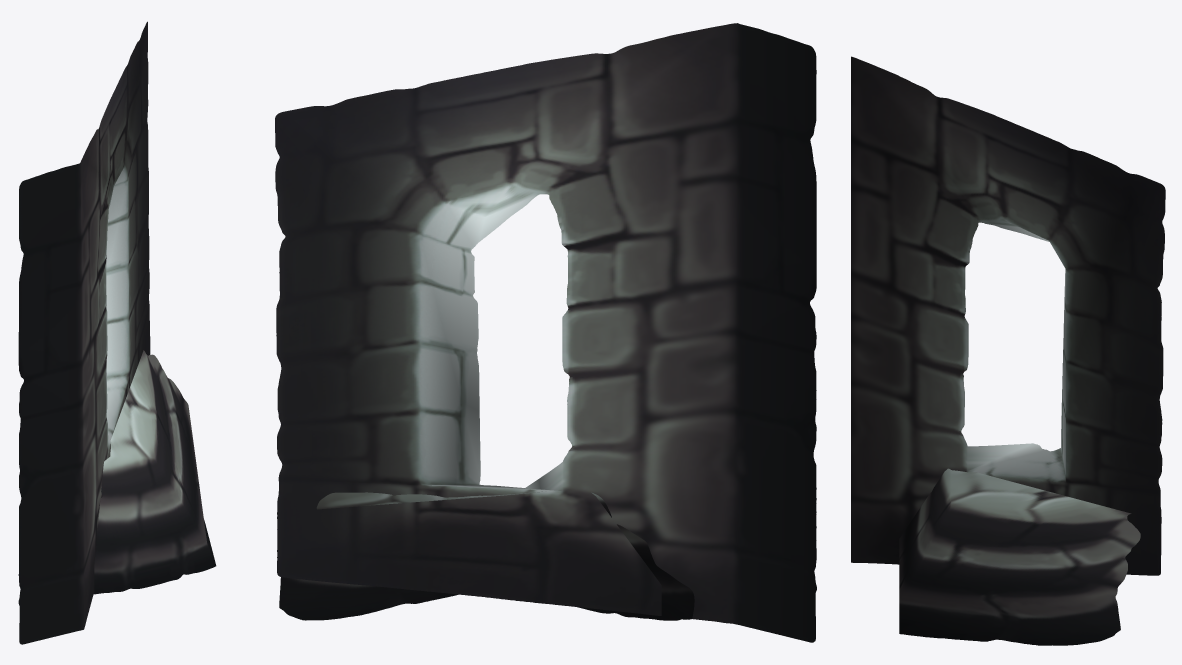
The model's file is Tower Entrance Interior.FBX.
3 renders of one model, left to right at view 1: azimuth 30°, elevation 25°; view 2: azimuth 150°, elevation 25°; view 3: azimuth 270°, elevation 25°, orthographic. The views are drawn at different scales.
Visible parts, largest first — view 1: Tower Entrance Interior; view 2: Tower Entrance Interior; view 3: Tower Entrance Interior.
Part boxes in pixels (box(x1,y1,x2,y2)): Tower Entrance Interior: box(18, 21, 216, 644); Tower Entrance Interior: box(275, 23, 816, 642); Tower Entrance Interior: box(851, 56, 1165, 645).
Size of the model in its own units: 420 by 346 by 625.
